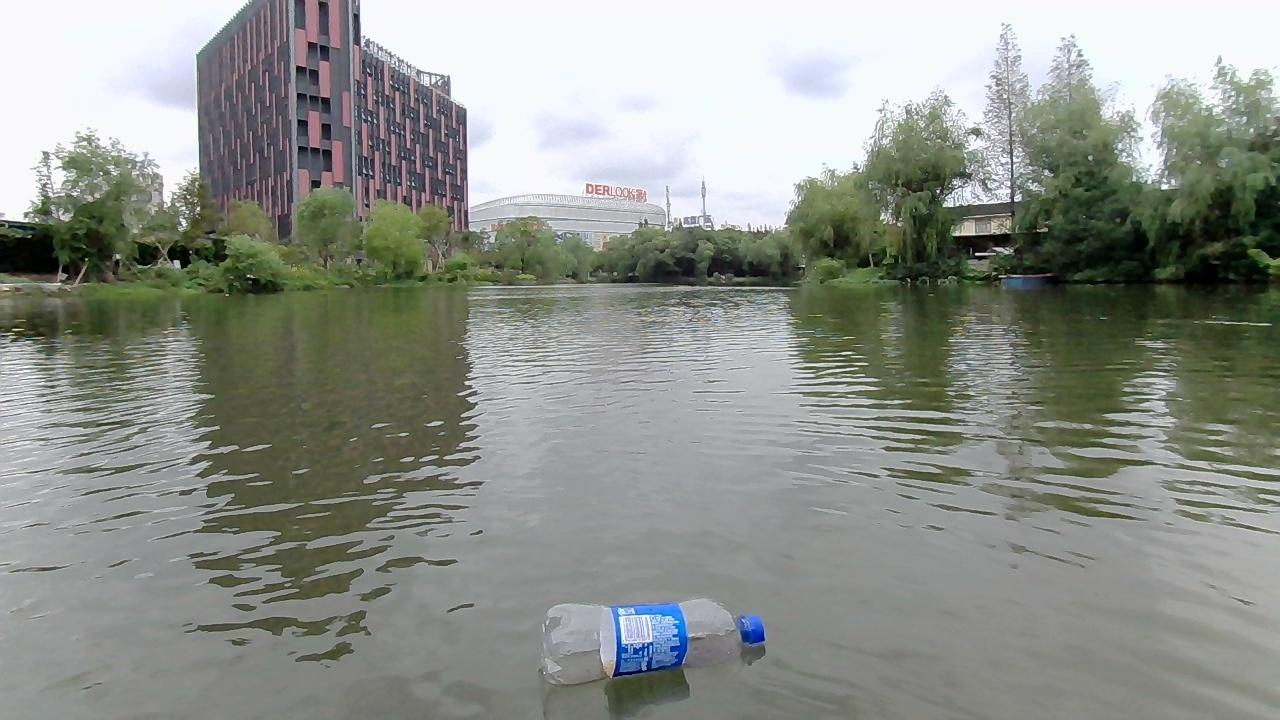bottle: (530, 586, 765, 685)
